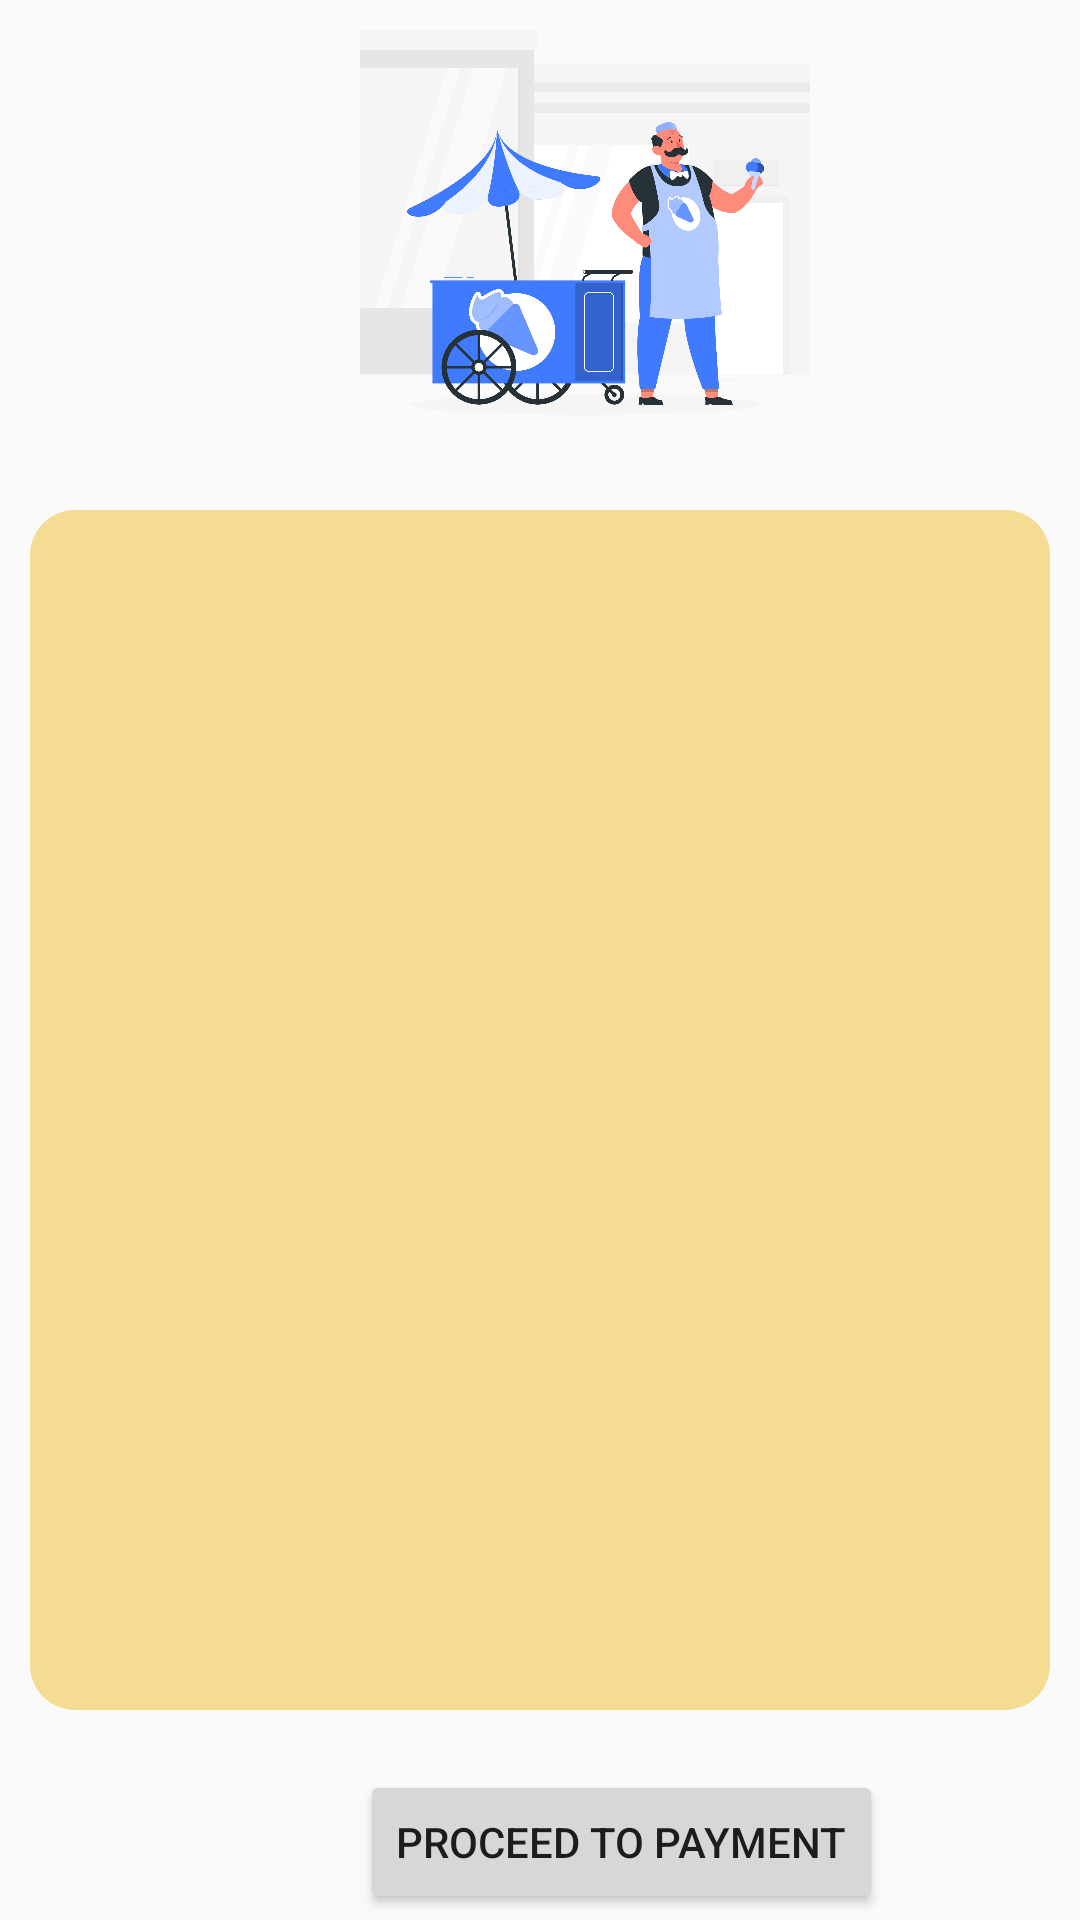

Named icons in this screenshot (1080×1920) and their centers, point (x, y):
cart seller rafiki: point (585, 237)
